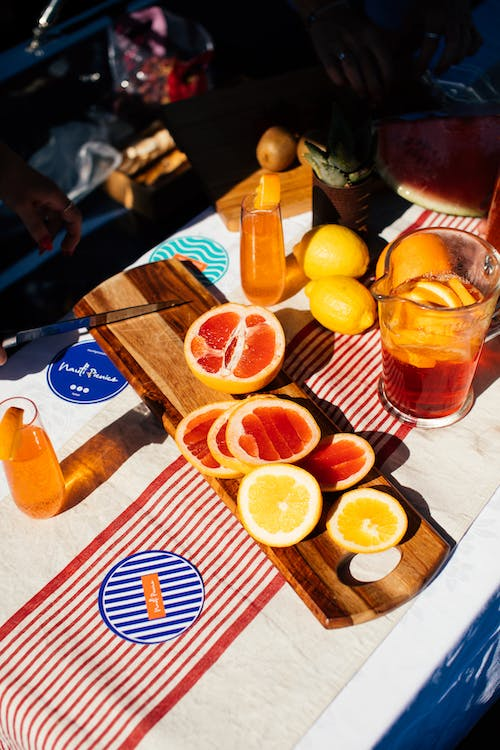knife: (0, 294, 196, 362)
